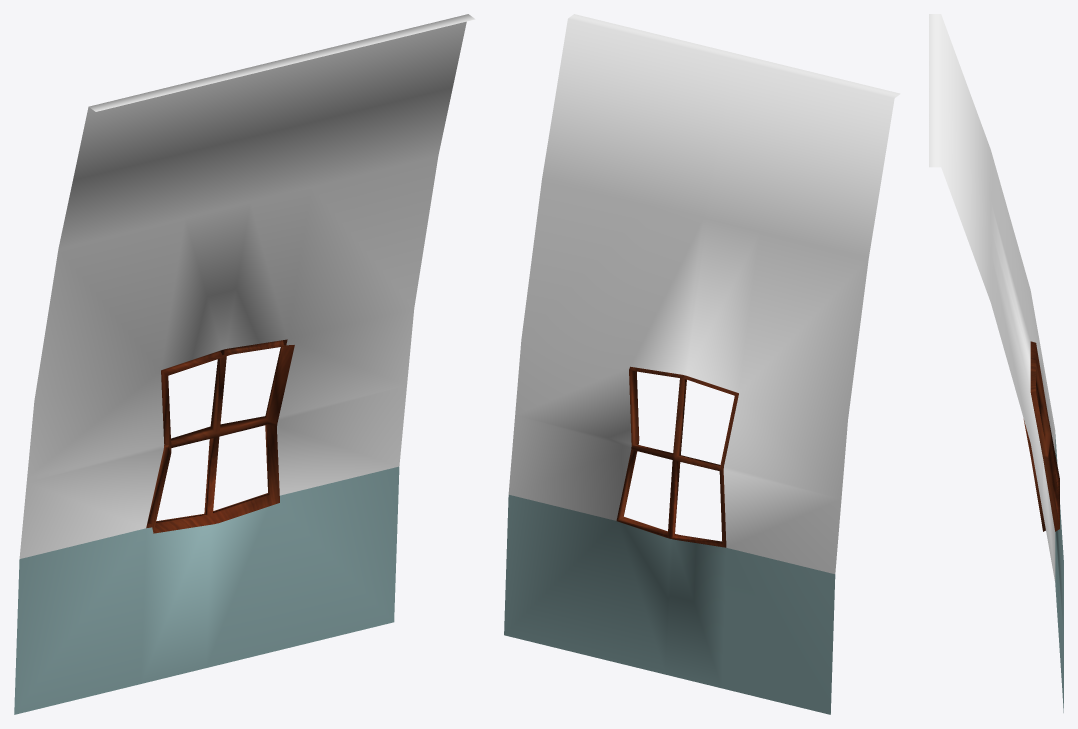
The model's file is wall_window_test.fbx.
The picture shows the model from 3 angles, left to right: view 1: azimuth 30°, elevation 25°; view 2: azimuth 150°, elevation 25°; view 3: azimuth 270°, elevation 25°; orthographic projection. The views are drawn at different scales.
Parts seen in each view (by area): view 1: windowWall_test; view 2: windowWall_test; view 3: windowWall_test.
Part boxes in pixels (x1,y1,x2,y2): windowWall_test: (14, 14, 475, 714); windowWall_test: (504, 14, 900, 714); windowWall_test: (929, 14, 1063, 712).
Size of the model in its own units: 3 by 5 by 1.12.
